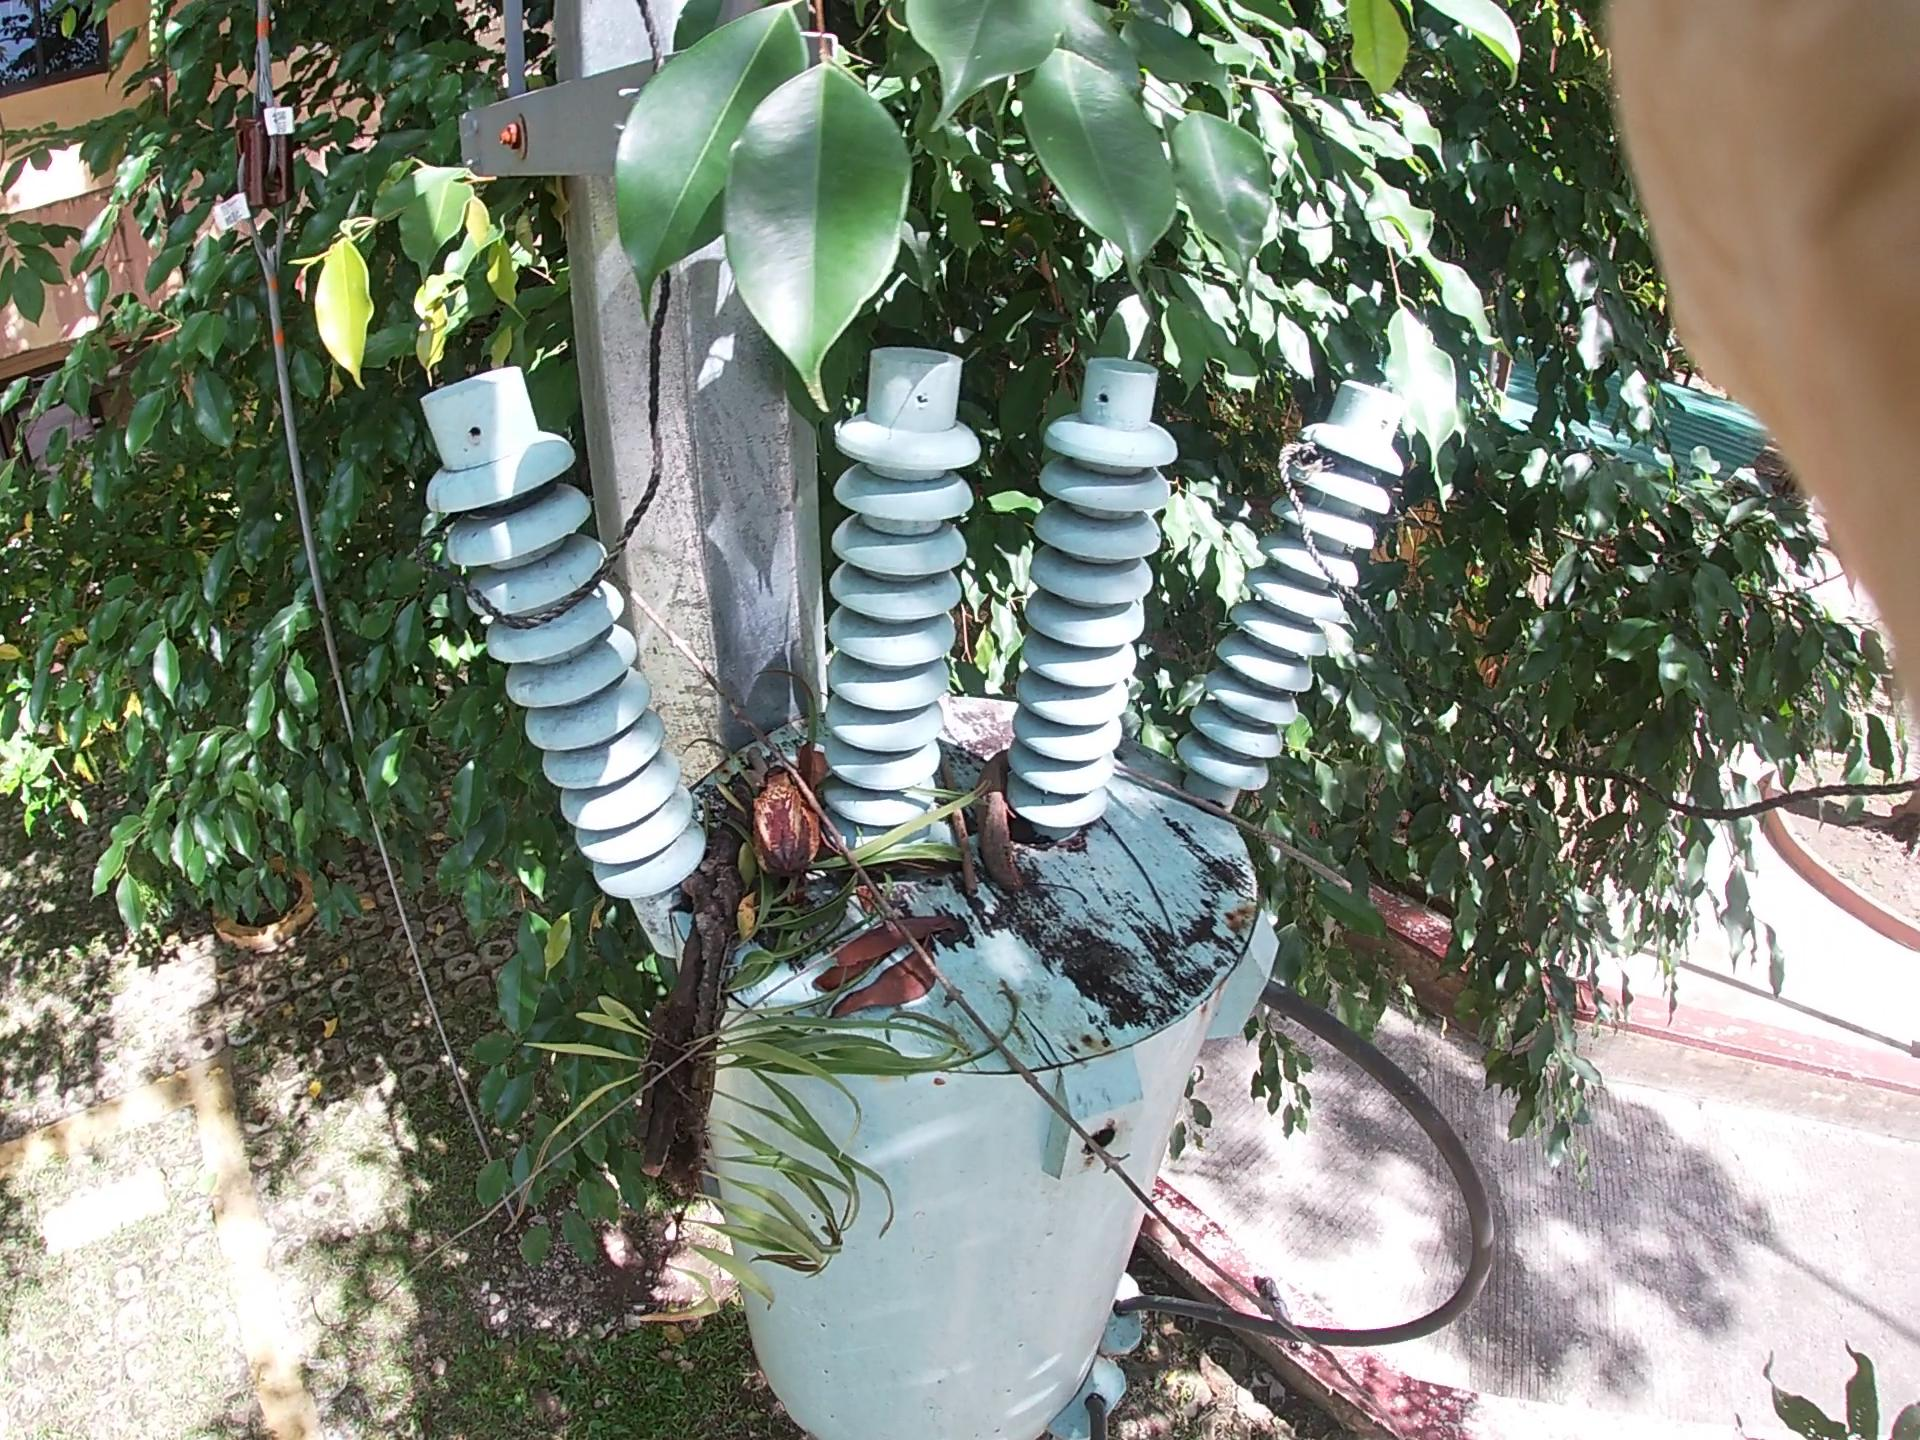branch with leaves: (543, 756, 717, 1366)
leaf: (777, 712, 1169, 1051), (838, 926, 937, 1051)
mahogany fruit: (729, 684, 865, 877), (971, 709, 1079, 930)
tree branch: (1129, 682, 1557, 976), (918, 749, 1070, 948)
